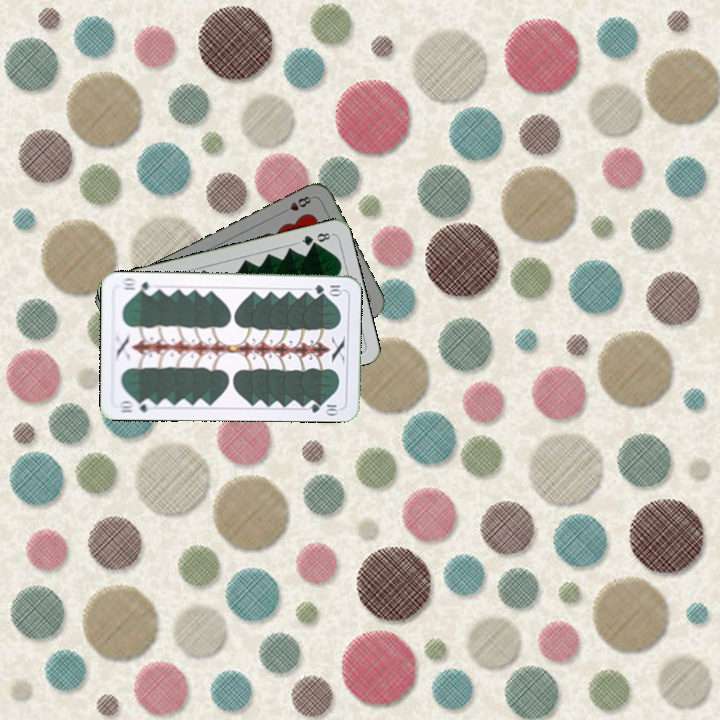G10: (115, 396, 155, 415), (311, 281, 344, 296)
G8: (295, 229, 335, 248)
H8: (278, 192, 316, 216)
